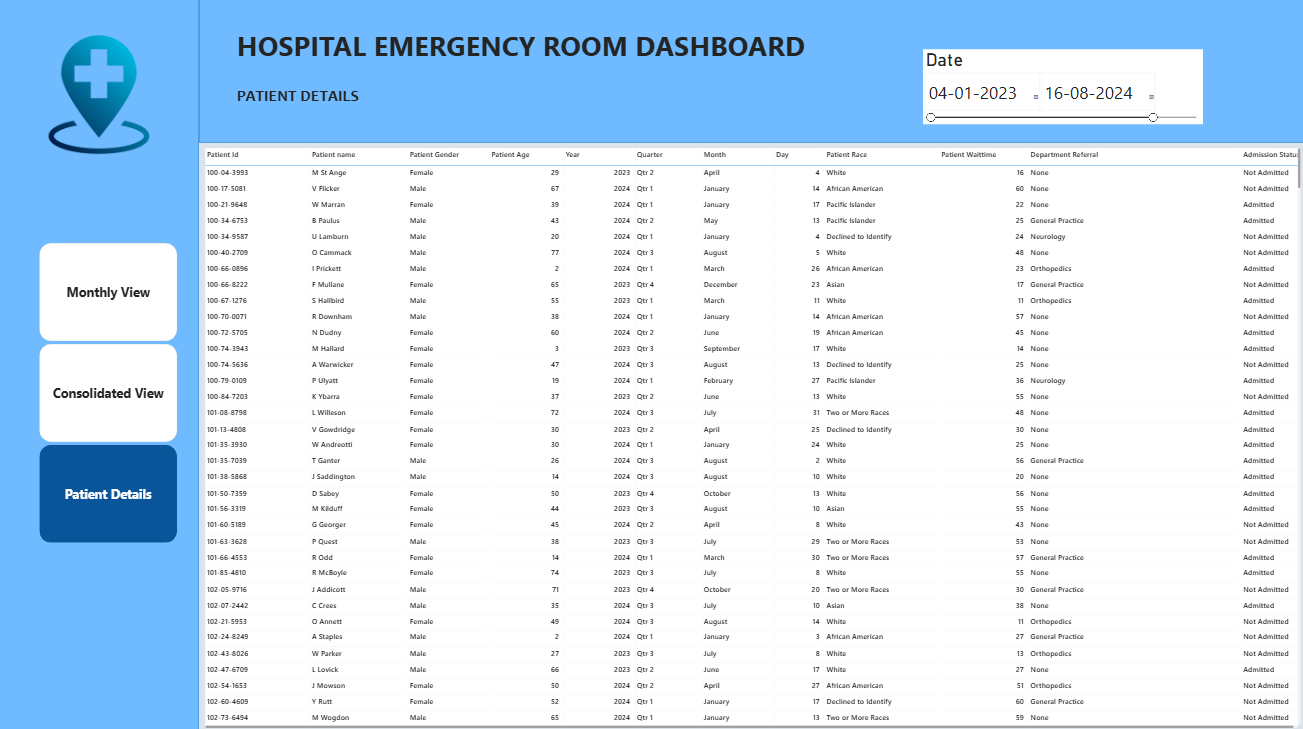

The page's visual inventory and layout, read from the dashboard file:
{"tool":"powerbi","page":{"name":"Patient Details","canvas":[3840,2160],"ordinal":2},"visuals":[{"type":"shape","box":[0,0,590,2160],"z":0},{"type":"shape","box":[590,0,3250,425],"z":1000},{"type":"textbox","box":[700,255,550,115],"z":2000},{"type":"slicer","fields":{"Values":["Date Table.Date"]},"box":[2715,150,820,220],"z":3000},{"type":"textbox","box":[3690,425,150,1735],"z":4000},{"type":"textbox","box":[700,85,1715,130],"z":5000},{"type":"image","box":[120,75,350,420],"z":6000},{"type":"tableEx","fields":{"Values":["Hospital ER_Data.Patient Id","Hospital ER_Data.Patient full name","Hospital ER_Data.Patient Gender","Sum(Hospital ER_Data.Patient Age)","Hospital ER_Data.Patient Admission Date.Variation.Date Hierarchy.Year","Hospital ER_Data.Patient Admission Date.Variation.Date Hierarchy.Quarter","Hospital ER_Data.Patient Admission Date.Variation.Date Hierarchy.Month","Hospital ER_Data.Patient Admission Date.Variation.Date Hierarchy.Day","Hospital ER_Data.Patient Race","Sum(Hospital ER_Data.Patient Waittime)","Hospital ER_Data.Department Referral","Hospital ER_Data.Admission Status"]},"box":[590,425,3250,1735],"z":7000},{"type":"pageNavigator","box":[120,720,405,880],"z":7001}]}

Visuals, with their boxes in screenshot pixels (x1, y1, x2, y2), scaled from the page's 3840x2160 canvas onto the 1303x729 screenshot:
shape: bbox=[0, 0, 200, 728]
shape: bbox=[200, 0, 1302, 143]
textbox: bbox=[238, 86, 424, 125]
slicer - Date Table.Date: bbox=[921, 51, 1200, 125]
textbox: bbox=[1252, 143, 1302, 728]
textbox: bbox=[238, 29, 819, 73]
image: bbox=[41, 25, 159, 167]
tableEx - Hospital ER_Data.Patient Id x Hospital ER_Data.Patient full name: bbox=[200, 143, 1302, 728]
pageNavigator: bbox=[41, 243, 178, 540]
